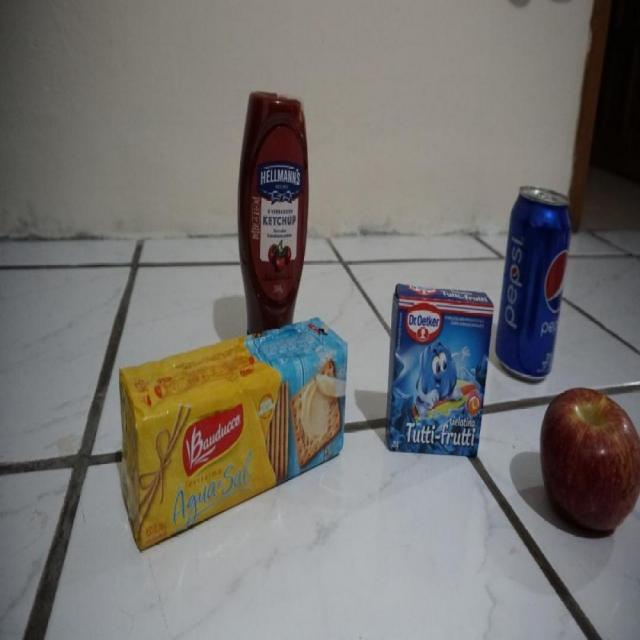Apple: (535, 382, 640, 540)
Cracker: (122, 317, 349, 550)
Gelatine: (386, 278, 494, 461)
Ketchup: (237, 92, 308, 316)
SodaCan: (496, 183, 570, 379)
